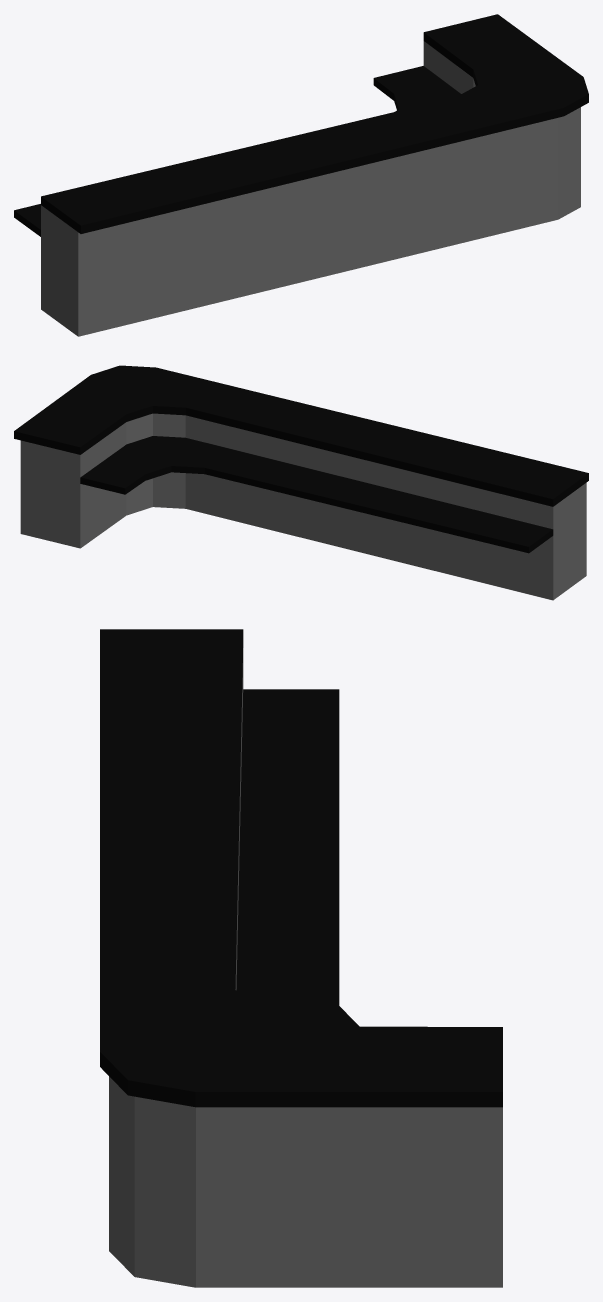
Rendered from P_Desk.fbx.
3 renders of one model, top to bottom at view 1: azimuth 30°, elevation 25°; view 2: azimuth 150°, elevation 25°; view 3: azimuth 270°, elevation 25°, orthographic. The views are drawn at different scales.
Parts seen in each view (by area): view 1: P_Desk; view 2: P_Desk; view 3: P_Desk.
Part boxes in pixels (bbox=[...]): P_Desk: bbox=[14, 14, 588, 336]; P_Desk: bbox=[14, 365, 588, 600]; P_Desk: bbox=[100, 629, 502, 1287].
Bounding box in the file's own units: 3550 × 1307 × 724.
